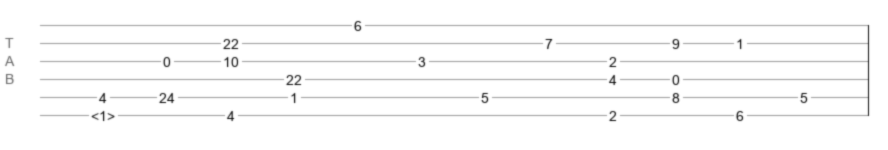0: (163, 54, 171, 64), (672, 72, 680, 82)
1: (290, 90, 298, 100), (736, 36, 744, 46)
10: (223, 54, 239, 64)
2: (609, 54, 617, 64), (609, 108, 617, 118)
22: (223, 36, 239, 46), (286, 72, 302, 82)
24: (159, 90, 175, 100)
3: (418, 54, 426, 64)
4: (99, 90, 107, 100), (227, 108, 235, 118), (609, 72, 617, 82)
5: (481, 90, 489, 100), (800, 90, 808, 100)
6: (354, 18, 362, 28), (736, 108, 744, 118)
7: (545, 36, 553, 46)
8: (672, 90, 680, 100)
9: (672, 36, 680, 46)
harmonic: (91, 108, 115, 118)
